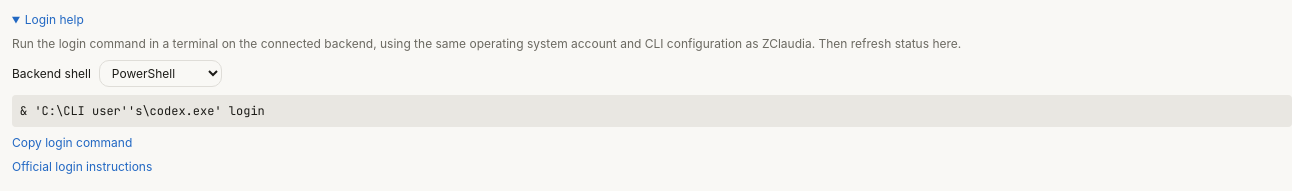
Test: runtime login help › offers explicit PowerShell syntax without using the client OS
Check: the text named "Login command" reads "& 'C:\\CLI user''s\\codex.exe' login", box [20,103,265,119]
Select "Bash / Zsh / sh" in the dropdown labelled "Backend shell" at {"x": 160, "y": 74}, box [99,60,222,87]
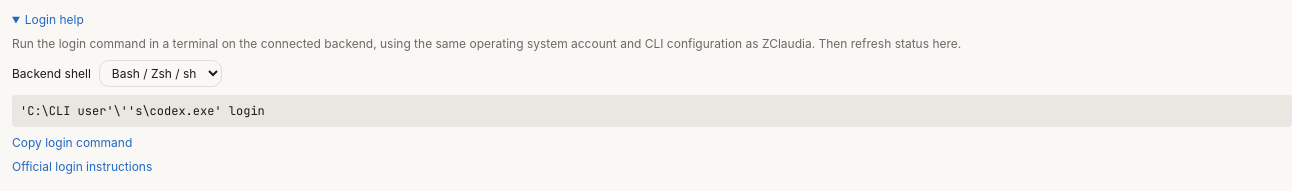
Check: the text named "Login command" reads "'C:\\CLI user'\\''s\\codex.exe' login", box [20,103,265,119]
